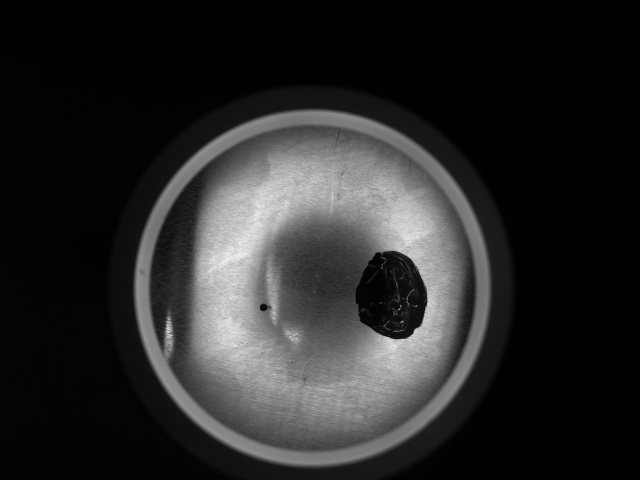zang_wu: (353, 249, 428, 340)
zhen_kong: (256, 302, 272, 312)
